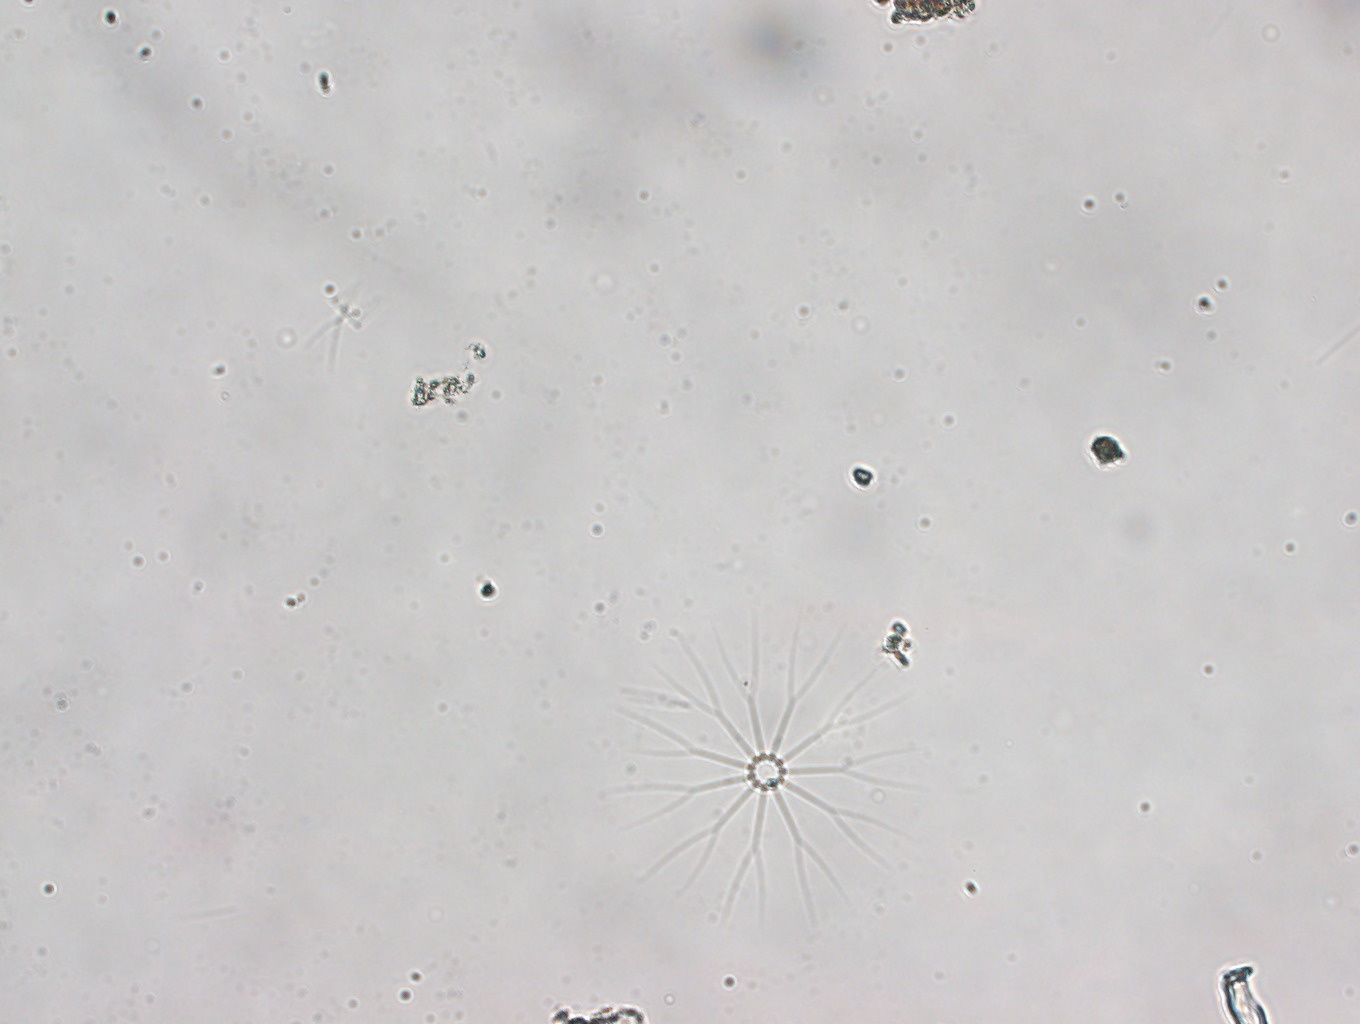bacteriastrum: (612, 607, 926, 927)
